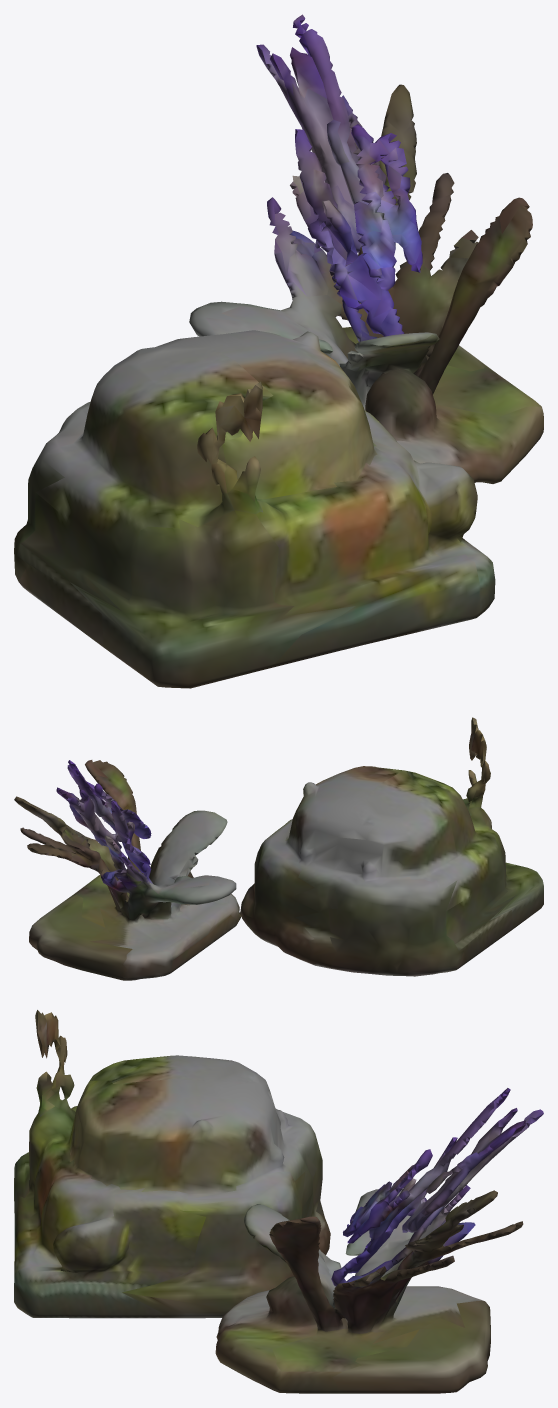
File: s13_toco_musgo_juncos.glb
3 views of the same model, one above another, from view 1: azimuth 30°, elevation 25°; view 2: azimuth 150°, elevation 25°; view 3: azimuth 270°, elevation 25° (orthographic). The views are drawn at different scales.
Visible parts, largest first — view 1: s13_toco_musgo_juncos; view 2: s13_toco_musgo_juncos; view 3: s13_toco_musgo_juncos.
Boxes of the visible parts, box(x1,y1,x2,y2) form: s13_toco_musgo_juncos: box(14, 14, 543, 688); s13_toco_musgo_juncos: box(14, 717, 543, 980); s13_toco_musgo_juncos: box(14, 1010, 543, 1393).
Bounding box in the file's own units: 1.62 × 0.9549 × 1.67.
1 material, 1 textured.
